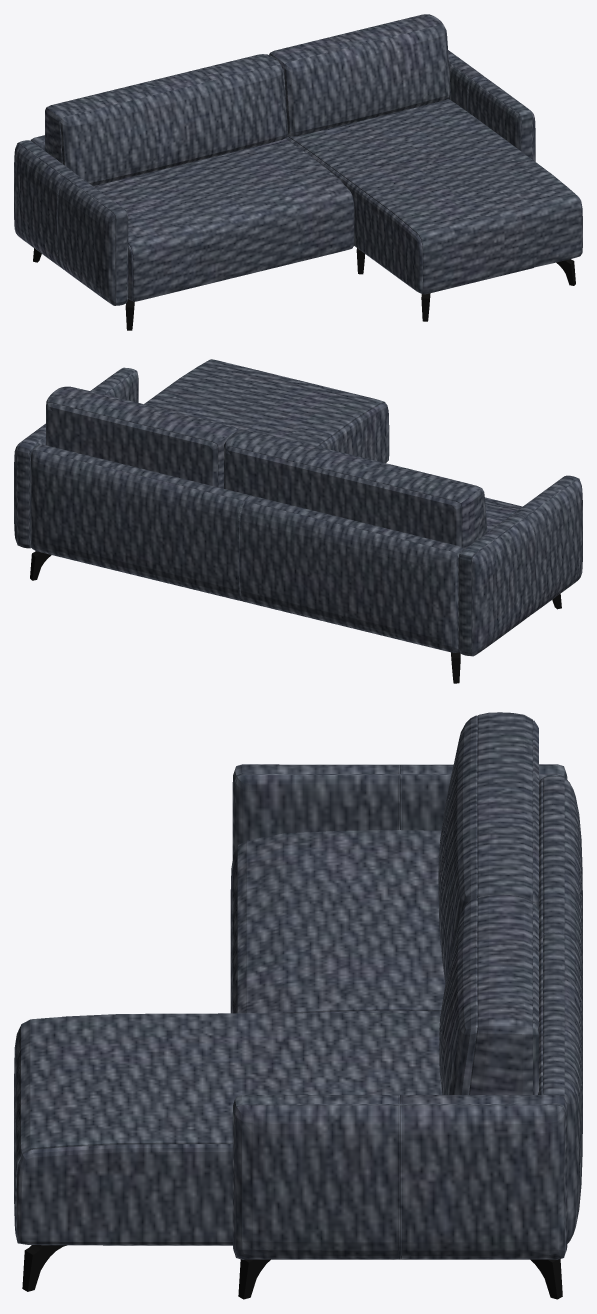
Rendered from classic-sectional-sofa.obj.
The picture shows the model from 3 angles, top to bottom: view 1: azimuth 30°, elevation 25°; view 2: azimuth 150°, elevation 25°; view 3: azimuth 270°, elevation 25°; orthographic projection. The views are drawn at different scales.
Parts seen in each view (by area): view 1: Sectional_Sofa_098; view 2: Sectional_Sofa_098; view 3: Sectional_Sofa_098.
Part boxes in pixels (x1,y1,x2,y2): Sectional_Sofa_098: (14, 14, 582, 330); Sectional_Sofa_098: (14, 359, 582, 683); Sectional_Sofa_098: (14, 712, 582, 1299).
Bounding box in the file's own units: 235 × 83.86 × 160.
2 materials, 1 textured.
